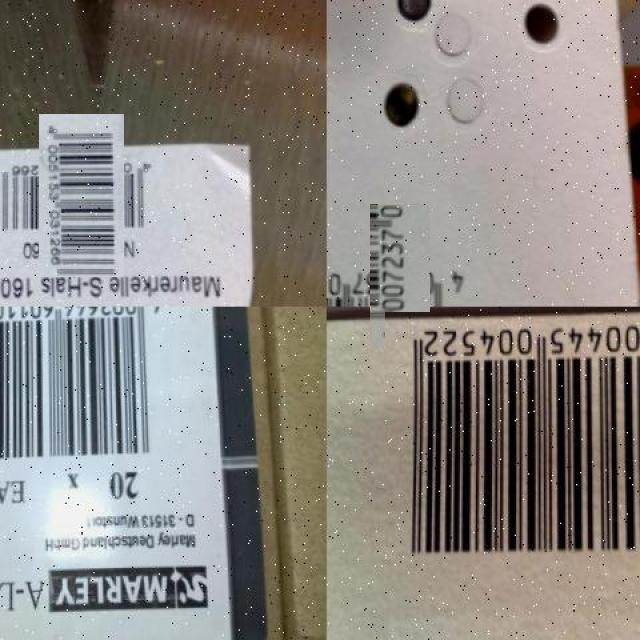Barcode: (385, 312, 640, 573), (0, 306, 186, 466), (19, 134, 144, 258), (348, 225, 452, 328)
